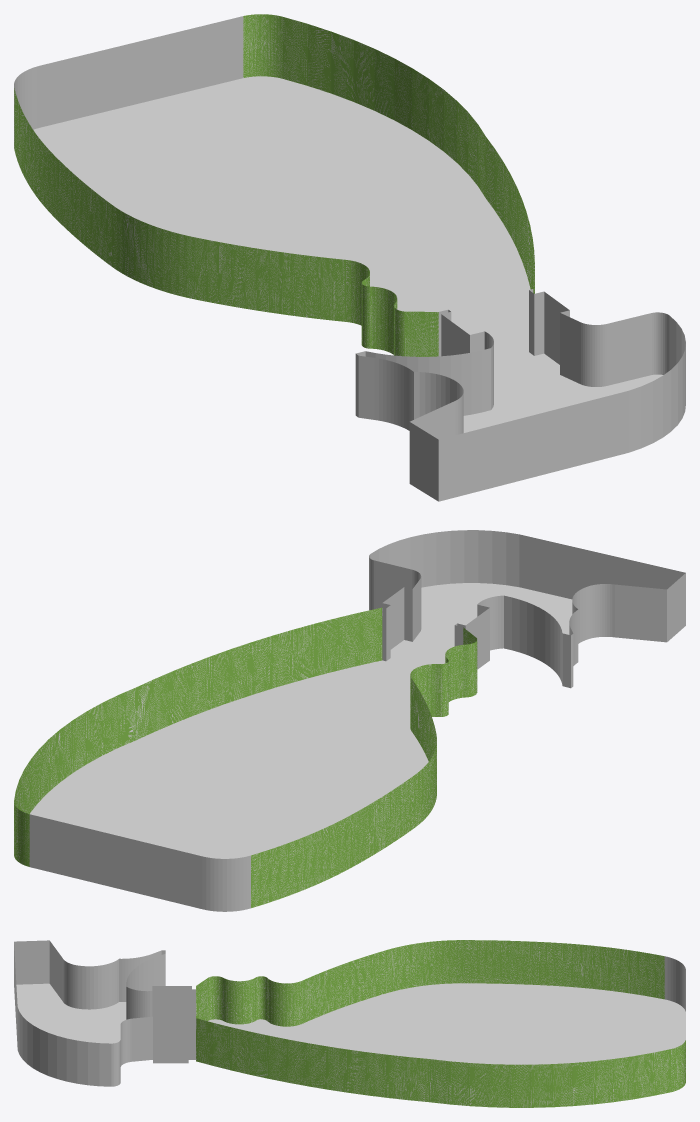
3 views of the same model, one above another, from view 1: azimuth 30°, elevation 25°; view 2: azimuth 150°, elevation 25°; view 3: azimuth 270°, elevation 25° (orthographic). The views are drawn at different scales.
Parts seen in each view (by area): view 1: spray n wash bottle; view 2: spray n wash bottle; view 3: spray n wash bottle.
Part boxes in pixels (box(x1,y1,x2,y2)): spray n wash bottle: box(14, 14, 685, 501); spray n wash bottle: box(14, 530, 685, 911); spray n wash bottle: box(14, 940, 685, 1107).
Bounding box in the file's own units: 4.61 × 0.7455 × 10.51.
